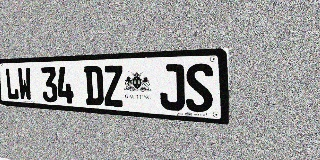3: (41, 67, 58, 103)
4: (56, 66, 74, 104)
D: (84, 66, 104, 106)
J: (159, 64, 185, 111)
L: (5, 68, 19, 100)
S: (185, 63, 213, 113)
W: (17, 67, 32, 101)
Z: (103, 65, 124, 107)
